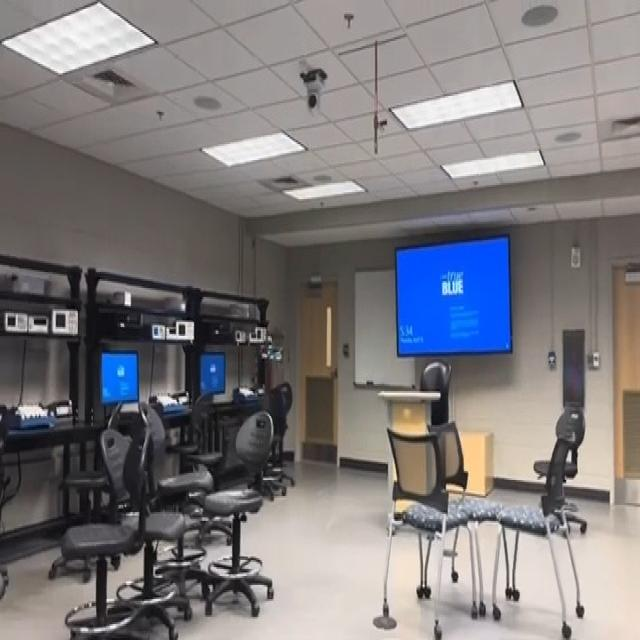drone: (253, 316, 293, 371)
